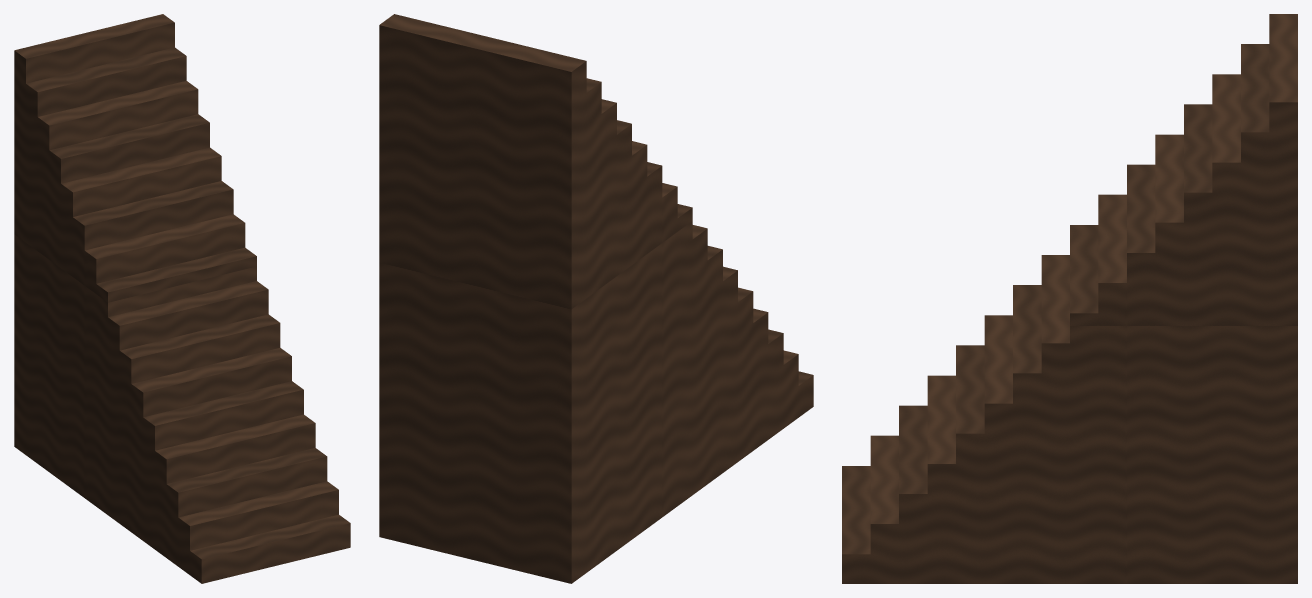
File: stair_straight.glb
The picture shows the model from 3 angles, left to right: view 1: azimuth 30°, elevation 25°; view 2: azimuth 150°, elevation 25°; view 3: azimuth 270°, elevation 25°; orthographic projection. The views are drawn at different scales.
Parts seen in each view (by area): view 1: stair_straight_0; view 2: stair_straight_0; view 3: stair_straight_0.
Part boxes in pixels (x1,y1,x2,y2): stair_straight_0: [14, 14, 350, 583]; stair_straight_0: [379, 14, 813, 583]; stair_straight_0: [842, 14, 1297, 583].
Size of the model in its own units: 1.1 by 2.8 by 2.4.
Materials: 1 (1 with a texture image).
